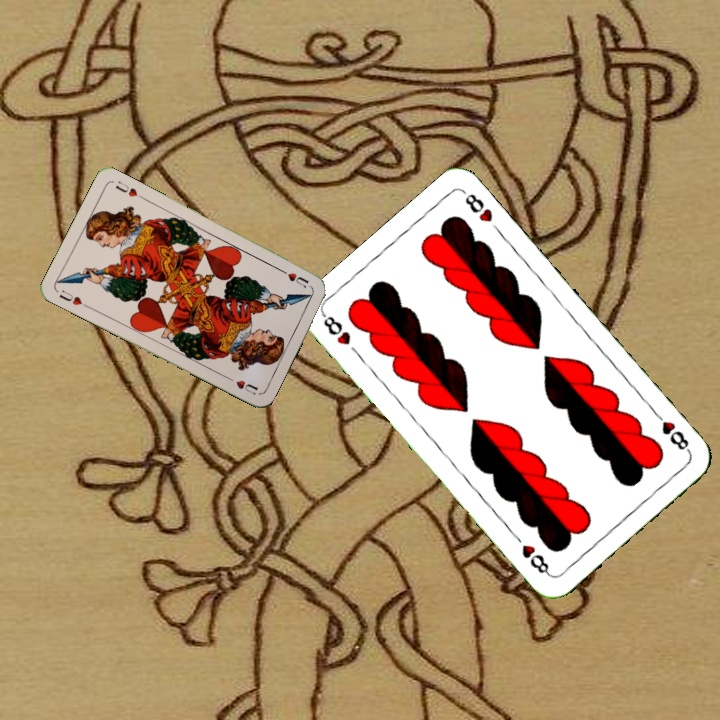H8: (649, 407, 693, 455), (318, 310, 353, 348)
HU: (55, 286, 91, 310), (283, 268, 311, 290)
